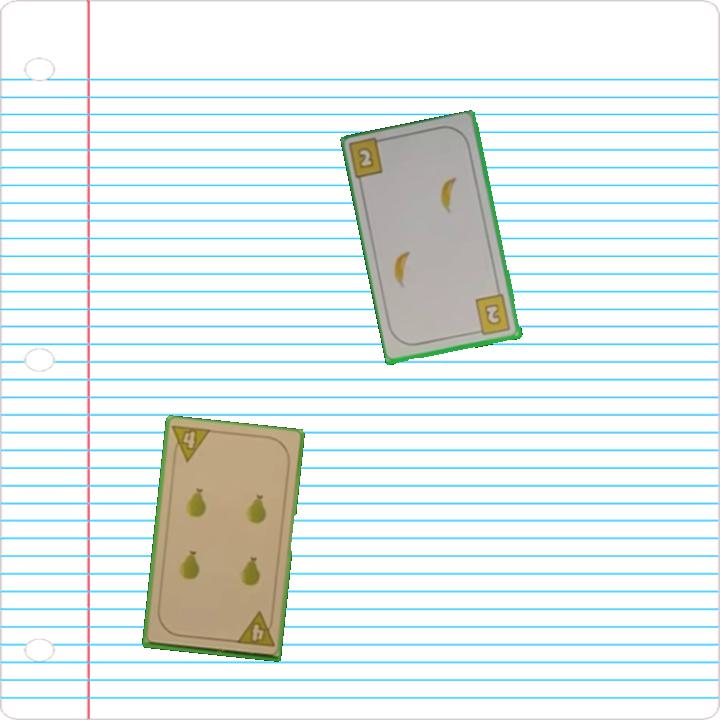2b: (472, 291, 514, 338), (354, 144, 377, 172)
4p: (169, 422, 213, 465), (233, 609, 277, 649)
